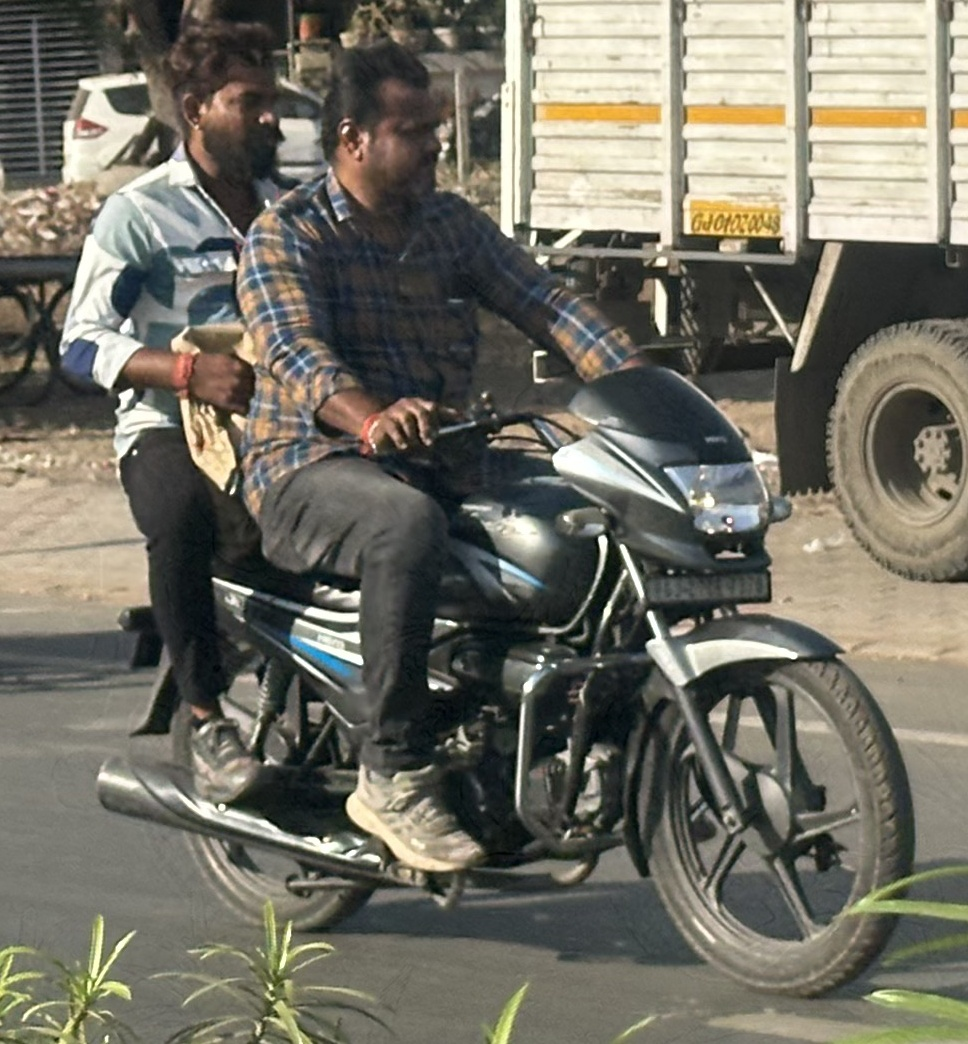BikeWithRider: (46, 12, 922, 1007)
NoHelmet: (148, 14, 301, 201), (309, 40, 458, 203)
